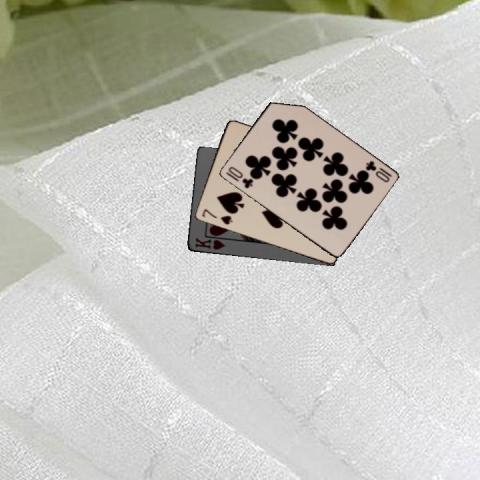10c: (222, 163, 255, 190), (362, 157, 393, 184)
7s: (199, 206, 234, 226)
Kh: (192, 235, 226, 251)
